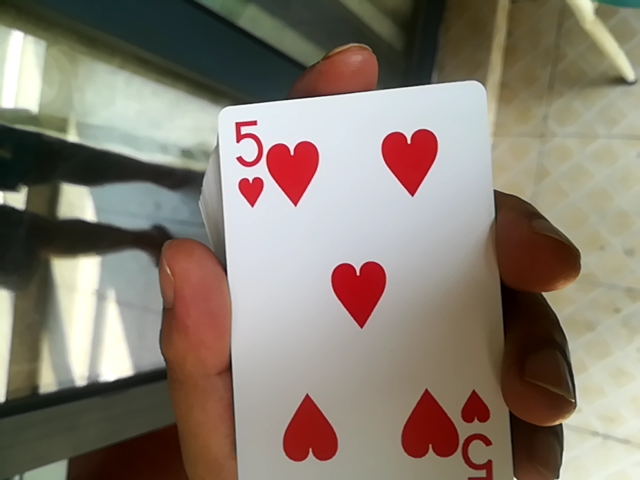hx 5: (197, 77, 497, 474)
